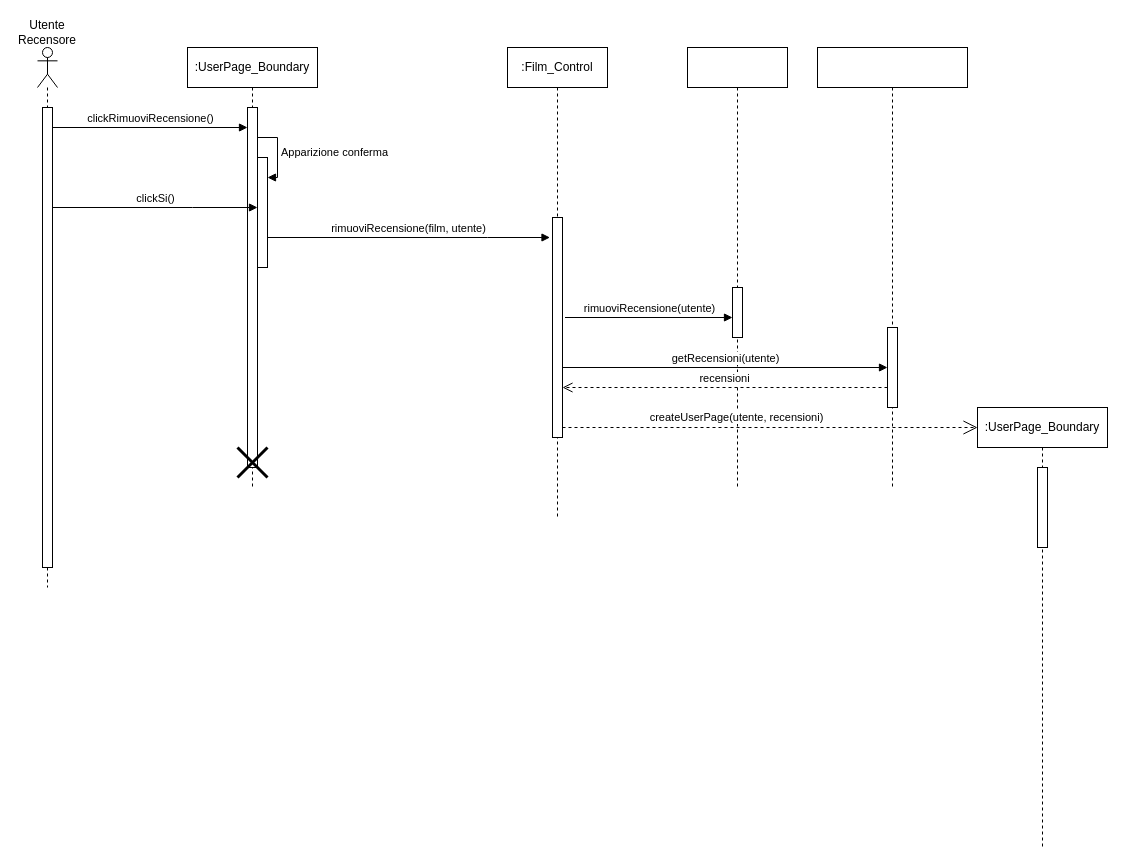
This 1125x865 diagram has some shape labels left out. The shapes that lost their labels are listed below. From the top down, each one's box as (x1, y1, x2, y2) in pixels, then its label:
(686, 46, 788, 488): film:Film
(816, 46, 968, 488): utente:Utente_Recensore
